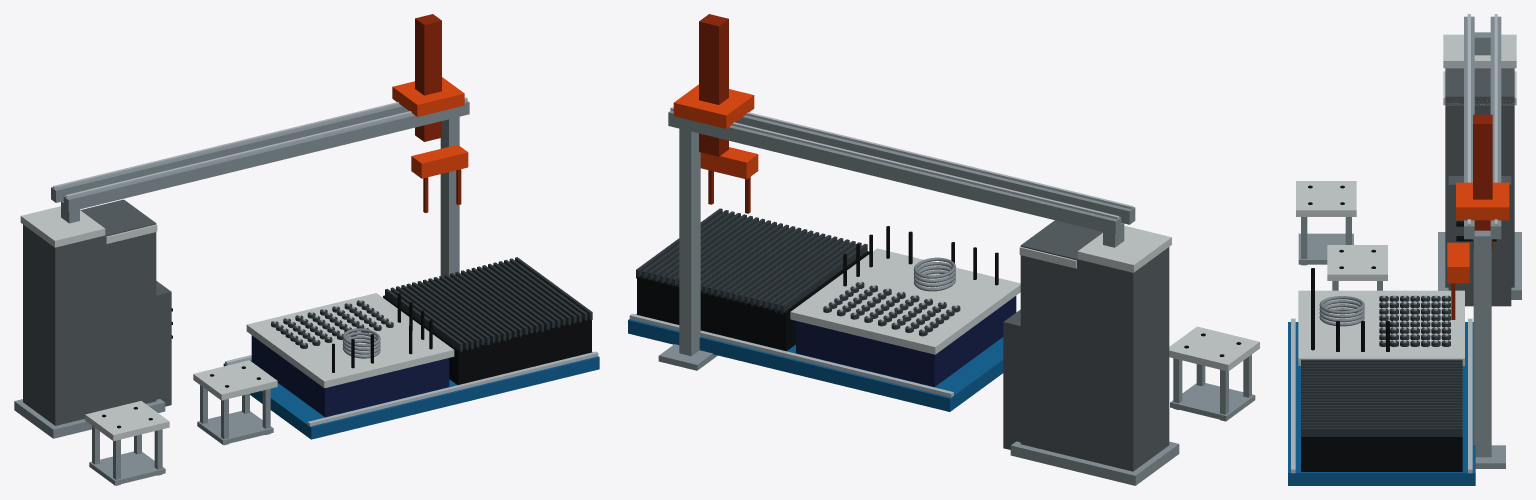
File: closing_transfer_cell.dae
The picture shows the model from 3 angles, left to right: view 1: azimuth 30°, elevation 25°; view 2: azimuth 150°, elevation 25°; view 3: azimuth 270°, elevation 25°; orthographic projection. The views are drawn at different scales.
Visible parts, largest first — view 1: closing_transfer_cell; view 2: closing_transfer_cell; view 3: closing_transfer_cell.
Part boxes in pixels (x1,y1,x2,y2): closing_transfer_cell: (14, 14, 599, 485); closing_transfer_cell: (628, 14, 1259, 485); closing_transfer_cell: (1288, 14, 1521, 485).
Size of the model in its own units: 6.69 by 2.62 by 4.07.
